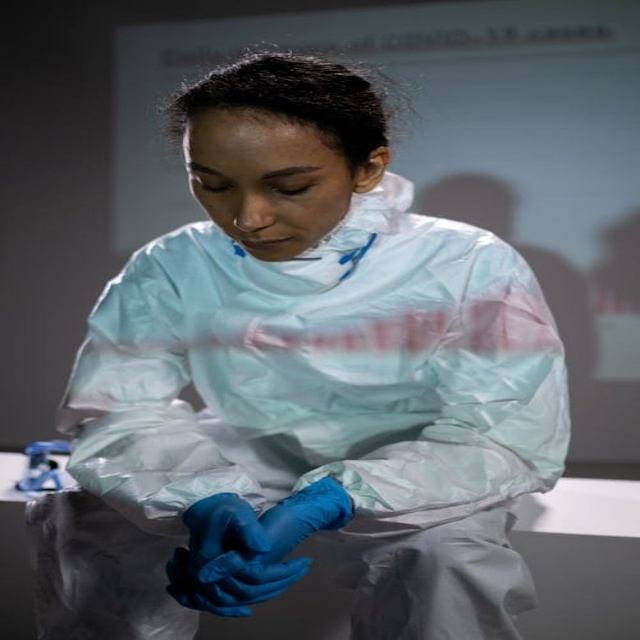Guantes: (164, 470, 360, 617)
Sin_gafas: (184, 160, 325, 203)
Sin_mascara: (230, 231, 306, 261)
